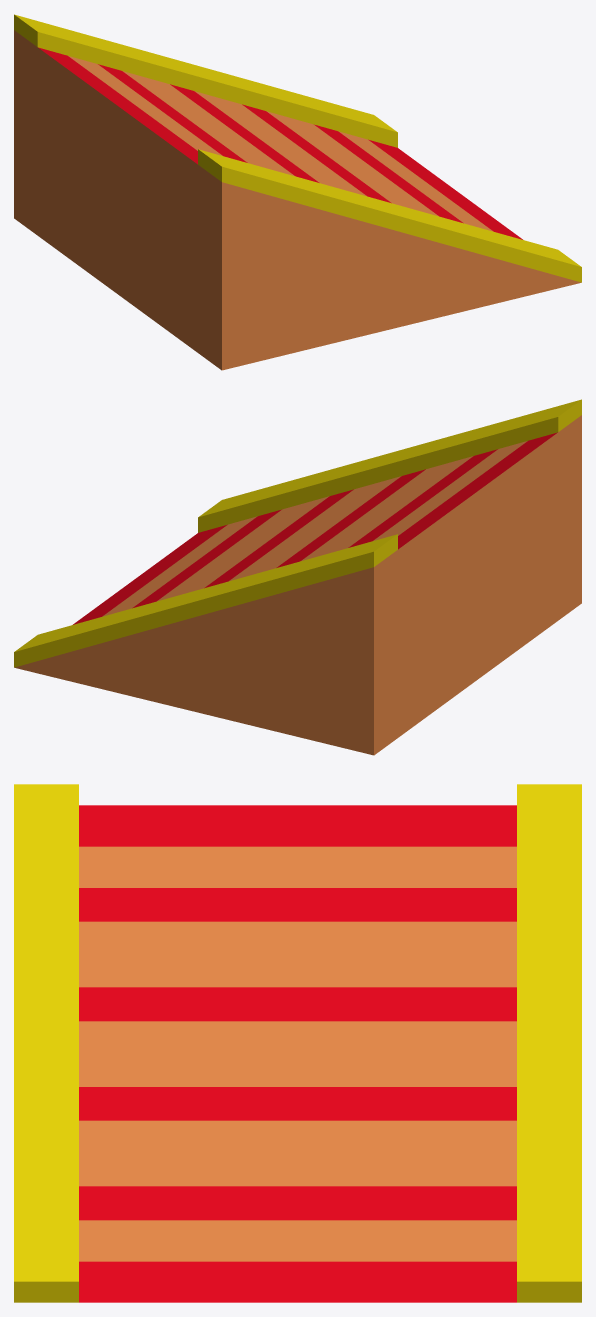
The model's file is RampStraight.fbx.
3 views of the same model, one above another, from view 1: azimuth 30°, elevation 25°; view 2: azimuth 150°, elevation 25°; view 3: azimuth 270°, elevation 25° (orthographic). The views are drawn at different scales.
Visible parts, largest first — view 1: RampStraight; view 2: RampStraight; view 3: RampStraight.
Boxes of the visible parts, x1,y1,x2,y2 form: RampStraight: (14, 14, 581, 370); RampStraight: (14, 399, 581, 755); RampStraight: (14, 784, 581, 1302).
Bounding box in the file's own units: 200 × 108 × 200.
